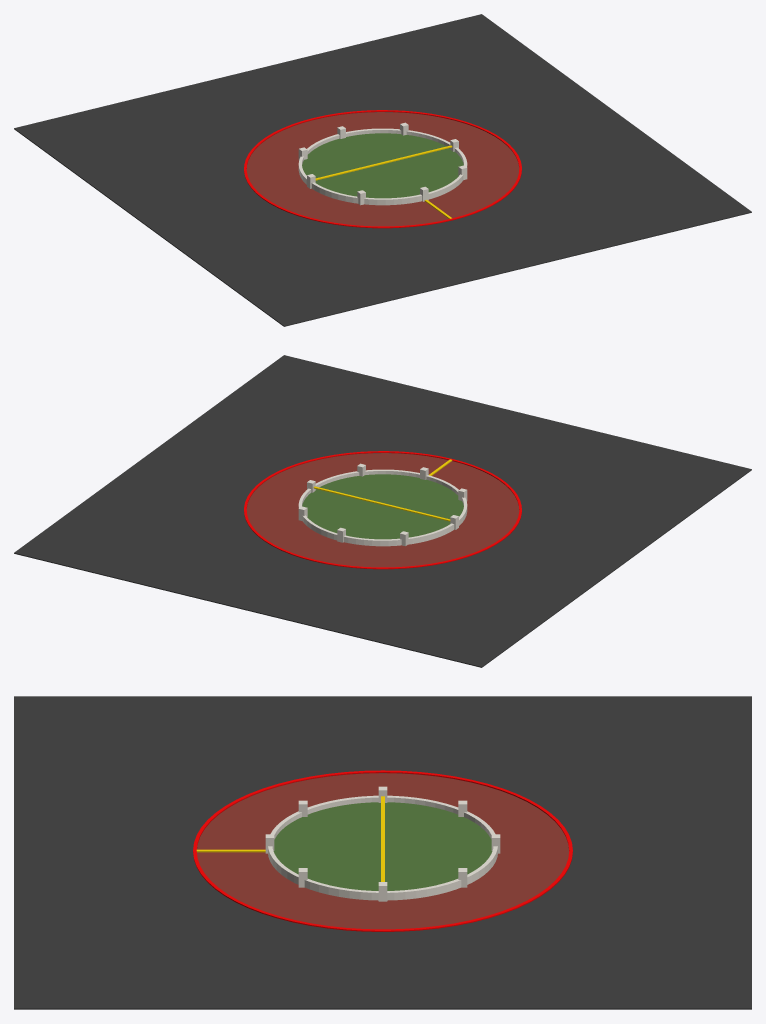
The model's file is huizenga_circle.obj.
3 renders of one model, top to bottom at view 1: azimuth 30°, elevation 25°; view 2: azimuth 150°, elevation 25°; view 3: azimuth 270°, elevation 25°, orthographic. The views are drawn at different scales.
Parts seen in each view (by area): view 1: Ground, PAVING_Ring, Planter_Lawn, Planter_Wall, CIRCLE_OUTLINE; view 2: Ground, PAVING_Ring, Planter_Lawn, Planter_Wall, CIRCLE_OUTLINE; view 3: Ground, PAVING_Ring, Planter_Lawn, Planter_Wall, CIRCLE_OUTLINE.
Part boxes in pixels (left/top/right/bottom): Ground: left=14, top=14, right=751, bottom=326; PAVING_Ring: left=246, top=112, right=519, bottom=226; Planter_Lawn: left=302, top=133, right=463, bottom=198; Planter_Wall: left=298, top=128, right=467, bottom=205; CIRCLE_OUTLINE: left=244, top=110, right=521, bottom=228; Ground: left=14, top=355, right=751, bottom=667; PAVING_Ring: left=246, top=453, right=519, bottom=567; Planter_Lawn: left=302, top=474, right=463, bottom=539; Planter_Wall: left=298, top=469, right=467, bottom=546; CIRCLE_OUTLINE: left=244, top=451, right=521, bottom=569; Ground: left=14, top=696, right=751, bottom=1009; PAVING_Ring: left=197, top=773, right=568, bottom=929; Planter_Lawn: left=273, top=802, right=492, bottom=890; Planter_Wall: left=268, top=795, right=497, bottom=900; CIRCLE_OUTLINE: left=193, top=770, right=572, bottom=931.
Size of the model in its own units: 50 by 1.3 by 50.
